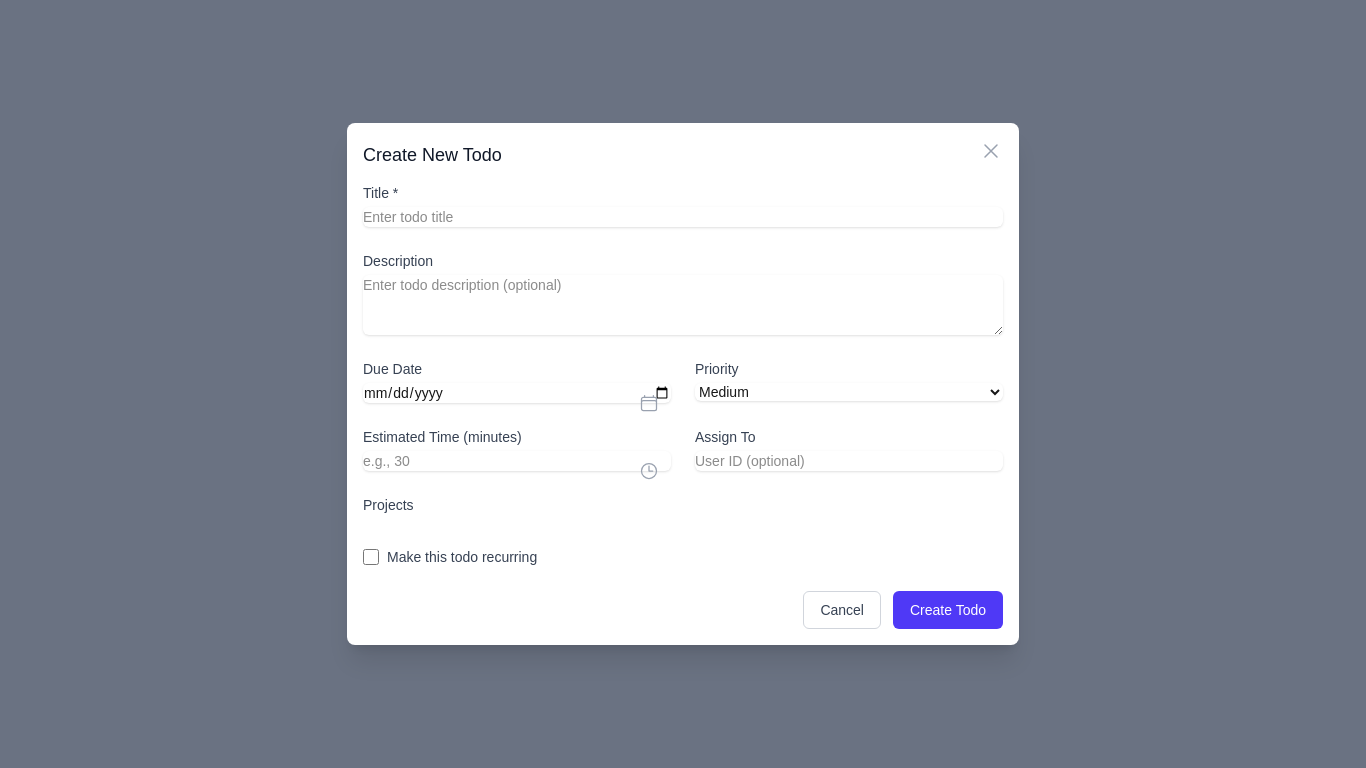
Test: TodoModal › Form Validation › should show error when title is empty
Click the button "Create Todo".
click(948, 610)  # box [893,591,1003,629]
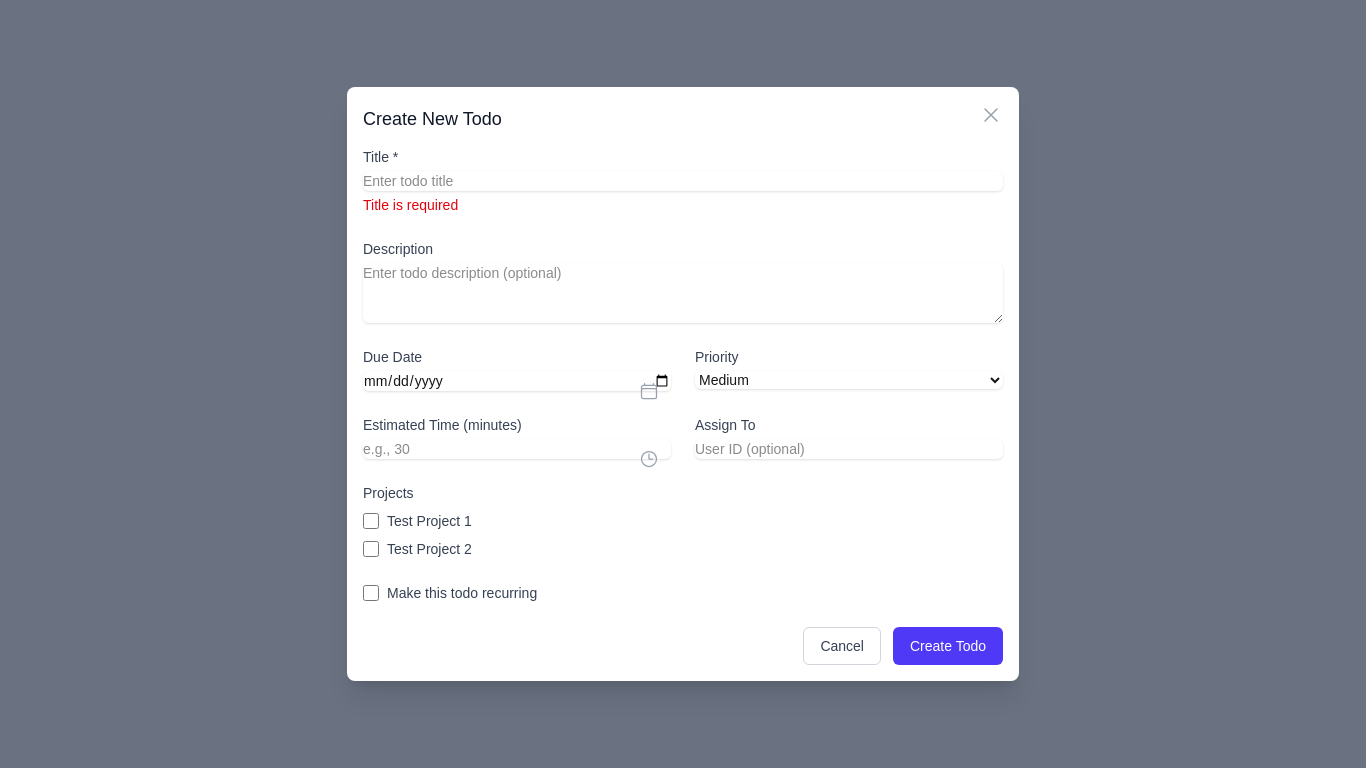
Expected: the text "Title is required" is shown, [363,197,458,213]
